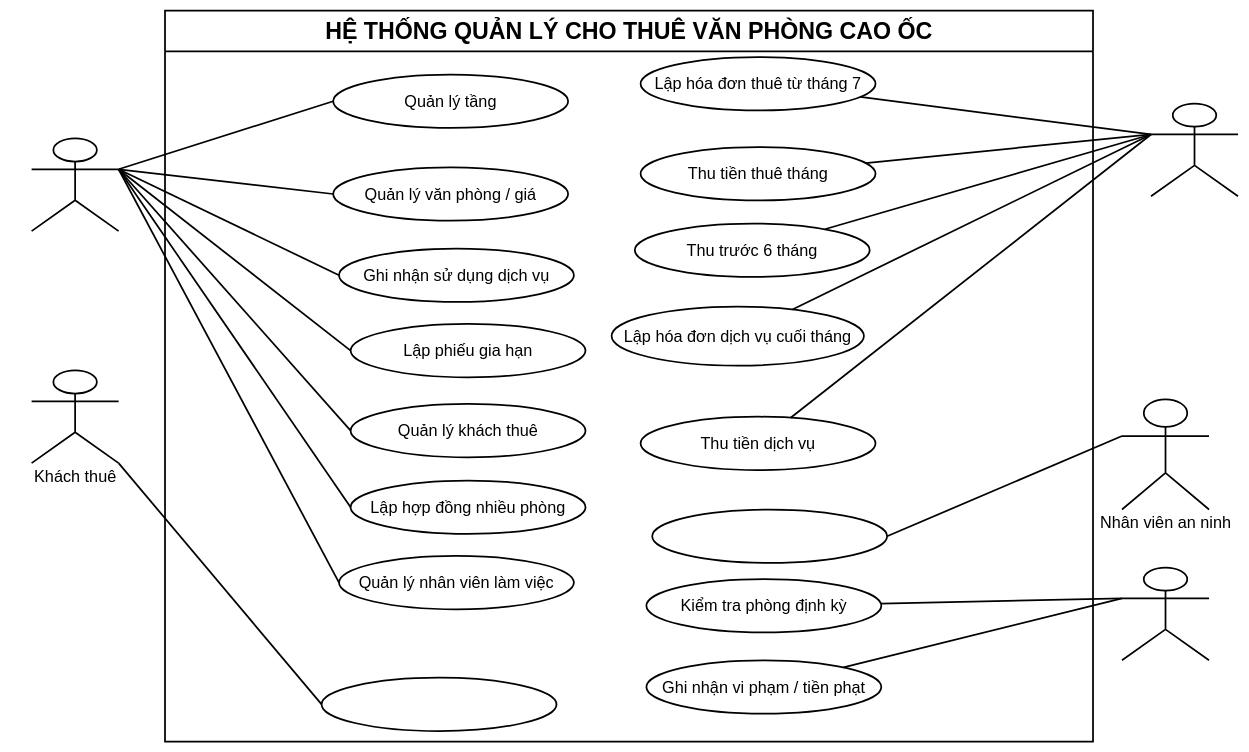
The diagram is 1249 pixels wide and 752 high, and some of its shapes have lost their labels. Each missing label, with the centre of its shape:
Cấp thẻ giữ xe: point 769,535
Kế toán: point 1194,149
Nhân viên kiểm tra: point 1165,613
Nhân viên quản lý: point 74,184
Tra cứu văn phòng trống: point 438,704
